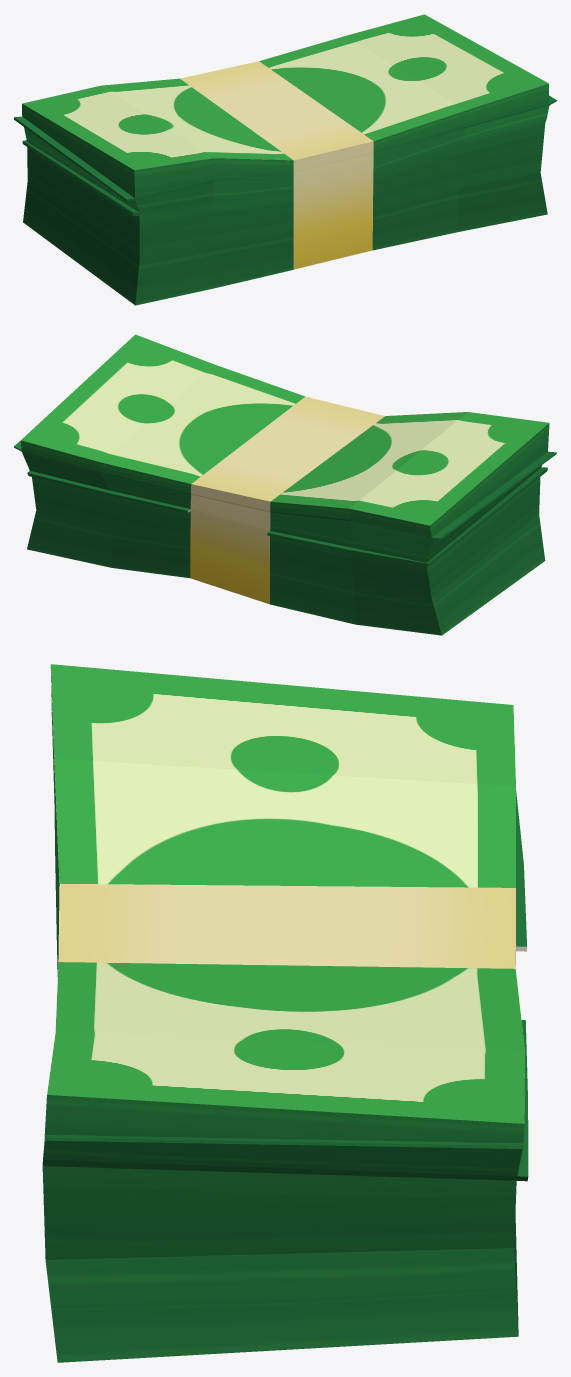
File: item_money_single.fbx
The picture shows the model from 3 angles, top to bottom: view 1: azimuth 30°, elevation 25°; view 2: azimuth 150°, elevation 25°; view 3: azimuth 270°, elevation 25°; orthographic projection. The views are drawn at different scales.
Parts seen in each view (by area): view 1: money stack.016; view 2: money stack.016; view 3: money stack.016.
Part boxes in pixels (bbox=[...]): money stack.016: bbox=[14, 14, 556, 305]; money stack.016: bbox=[14, 334, 556, 635]; money stack.016: bbox=[42, 664, 528, 1362].
Size of the model in its own units: 29.31 by 9.58 by 14.37.
Materials: 1 (1 with a texture image).
